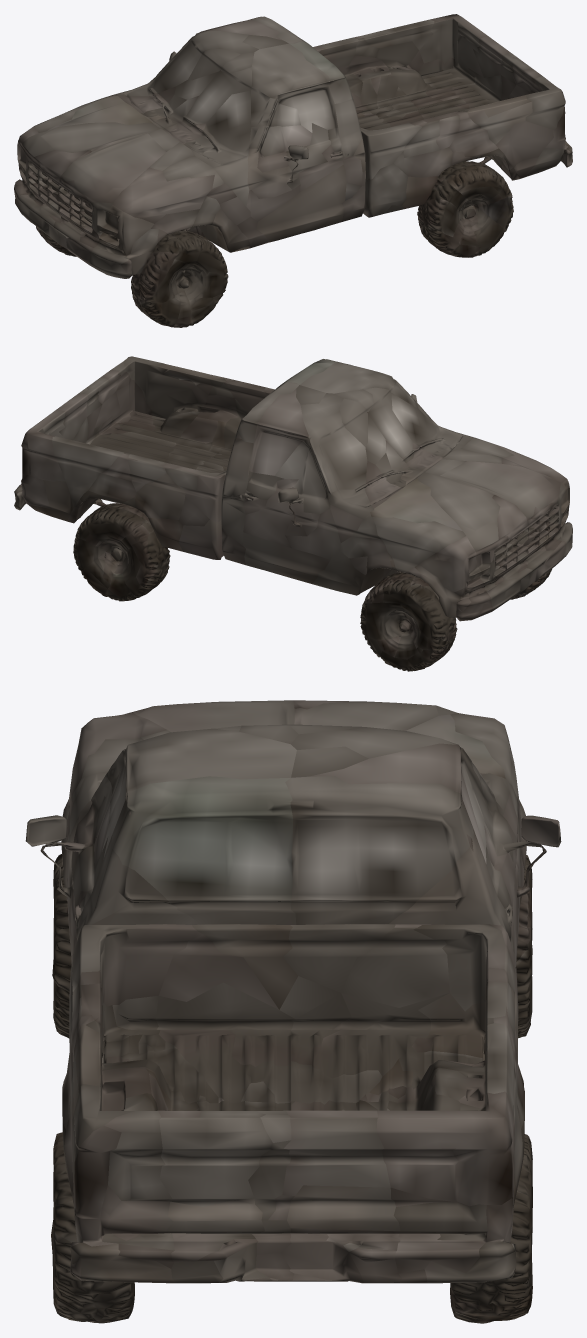
File: car_pickup_light_q1.glb
The picture shows the model from 3 angles, top to bottom: view 1: azimuth 30°, elevation 25°; view 2: azimuth 150°, elevation 25°; view 3: azimuth 270°, elevation 25°; orthographic projection. The views are drawn at different scales.
Size of the model in its own units: 5.26 by 2.2 by 2.6.
1 material, 1 textured.
